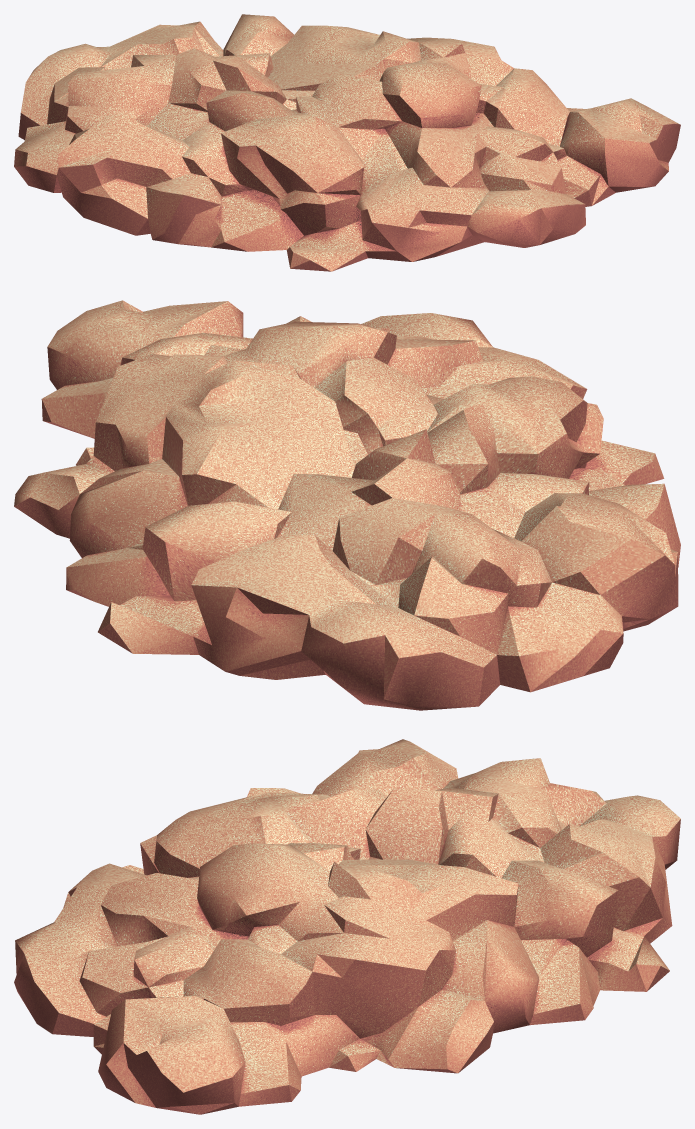
The model's file is rocks-group-1c.fbx.
3 renders of one model, top to bottom at view 1: azimuth 30°, elevation 25°; view 2: azimuth 150°, elevation 25°; view 3: azimuth 270°, elevation 25°, orthographic. The views are drawn at different scales.
Visible parts, largest first — view 1: Rocks_Group_01_02_LOD0; view 2: Rocks_Group_01_02_LOD0; view 3: Rocks_Group_01_02_LOD0.
Boxes of the visible parts, box(x1,y1,x2,y2) form: Rocks_Group_01_02_LOD0: box(14, 14, 680, 271); Rocks_Group_01_02_LOD0: box(14, 300, 680, 710); Rocks_Group_01_02_LOD0: box(14, 739, 680, 1114).
Size of the model in its own units: 317 by 62.97 by 283.
1 material, 1 textured.
